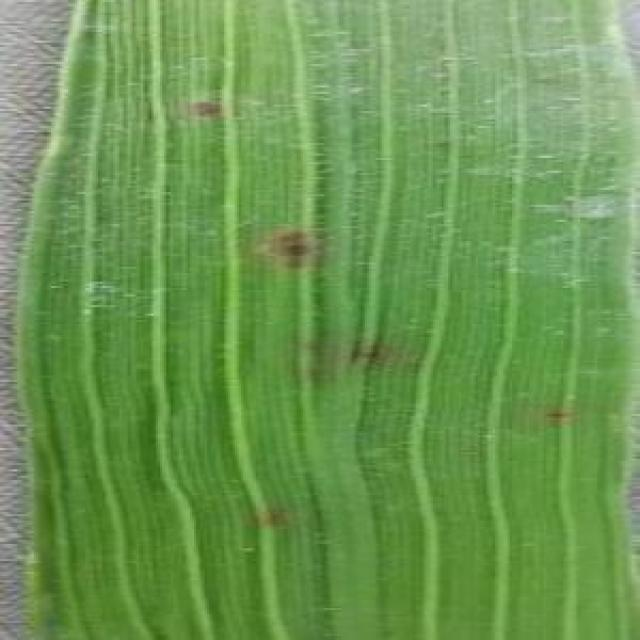brownspots: (343, 335, 414, 369), (269, 222, 320, 267), (250, 499, 300, 534), (184, 85, 224, 124), (546, 402, 568, 424)
